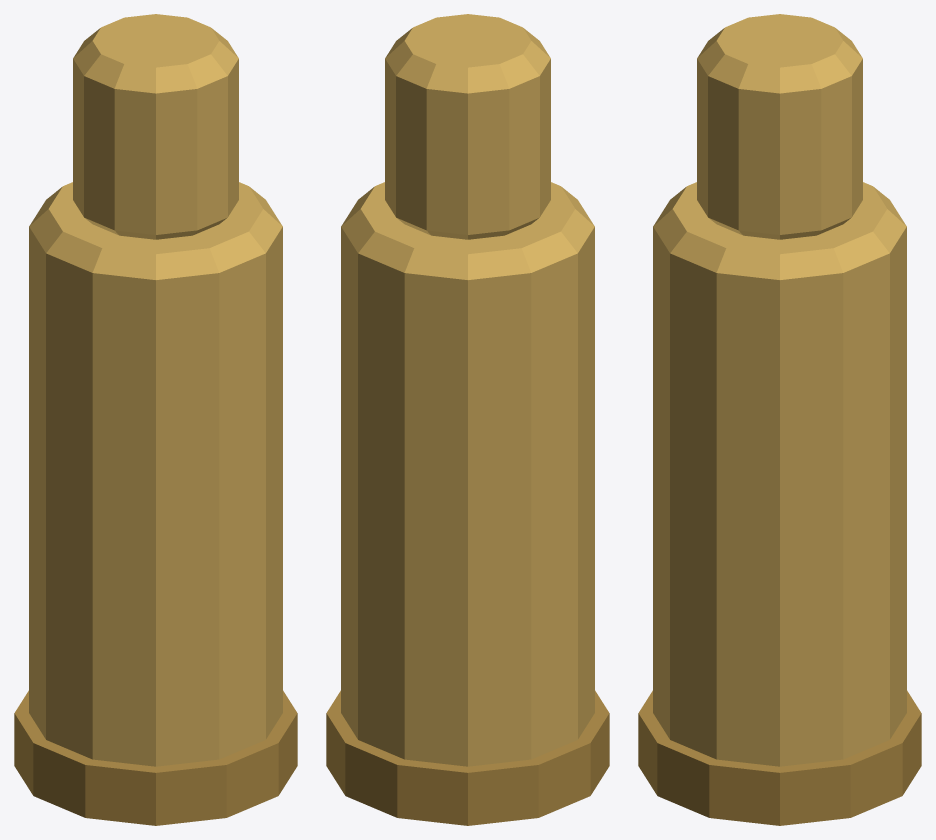
The model's file is shell_rifle.obj.
3 renders of one model, left to right at view 1: azimuth 30°, elevation 25°; view 2: azimuth 150°, elevation 25°; view 3: azimuth 270°, elevation 25°, orthographic.
Visible parts, largest first — view 1: shell_rifle; view 2: shell_rifle; view 3: shell_rifle.
Boxes of the visible parts, x1,y1,x2,y2 form: shell_rifle: (14,14,297,825); shell_rifle: (326,14,609,825); shell_rifle: (638,14,921,825).
Size of the model in its own units: 0.29 by 0.82 by 0.29.
Materials: 1 (1 with a texture image).
